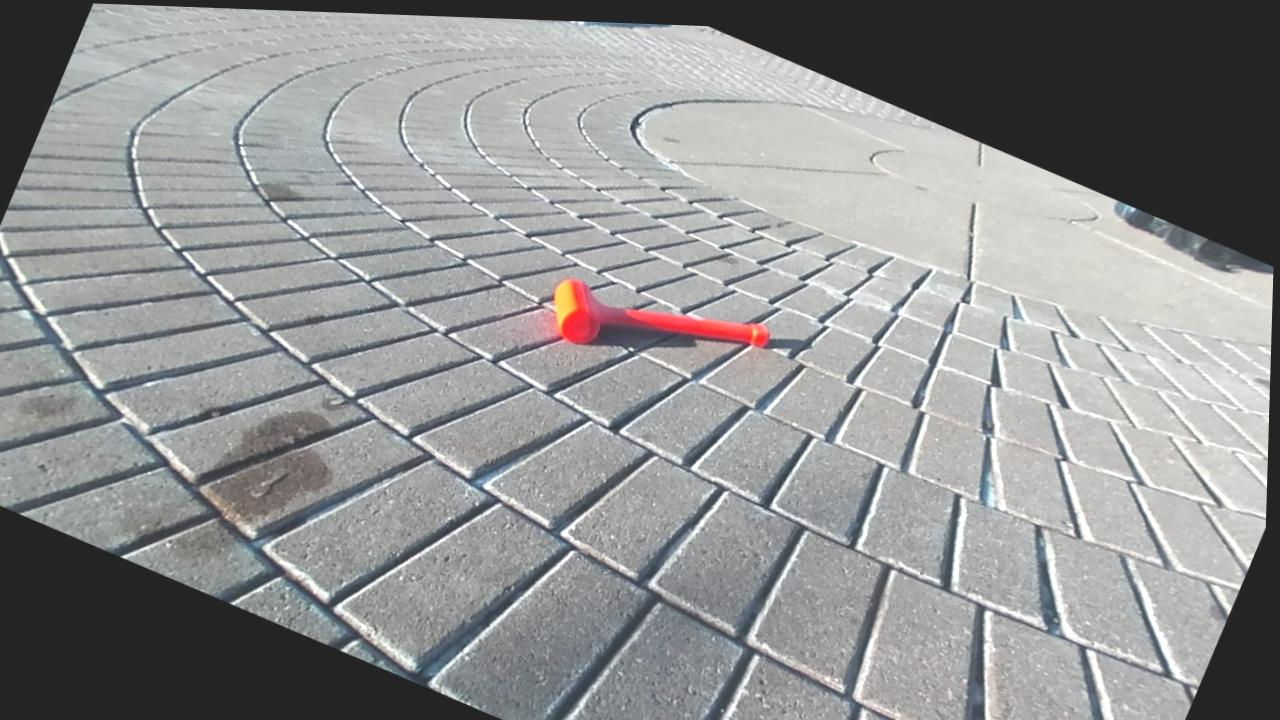mallet: (553, 279, 768, 345)
